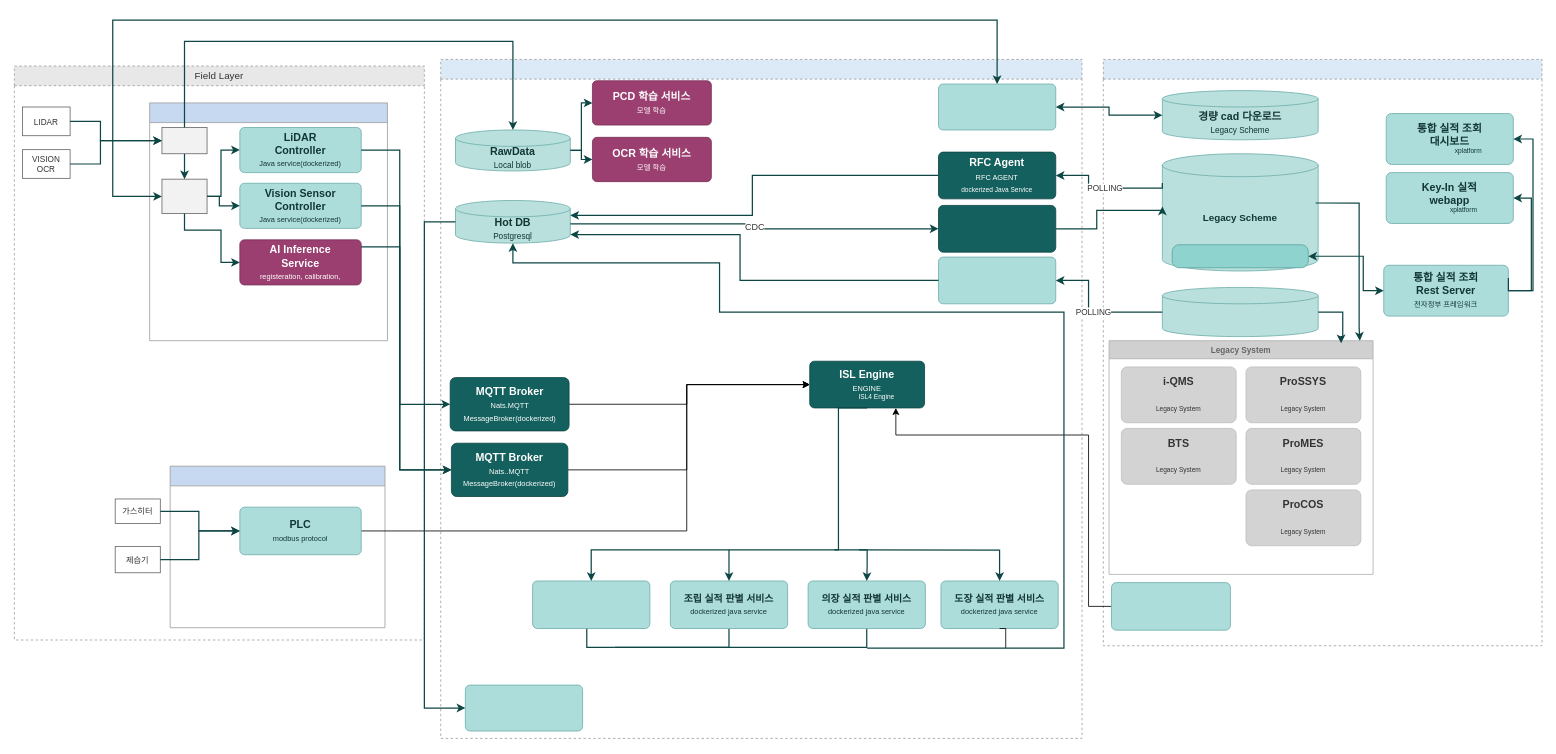
The diagram is 1556 pixels wide and 754 high, and some of its shapes have lost their labels. The shapes that lost their labels are listed below. From the top down, each one's box as (x1, y1, x2, y2) in pixels, then its label:
(938, 83, 1056, 130): 파일 다운로드 서비스 File Access Gateway(dockerized)
(161, 127, 207, 154): EDGE PC
(161, 178, 207, 214): Work Station
(1162, 153, 1318, 271): SAP HANA
(149, 102, 387, 341): 조립 권역 / 의장 권역
(938, 205, 1056, 252): RFC provider Embed debezium RFC Provider dockerized Java Service
(1171, 244, 1308, 268): 통합 실적 Scheme
(938, 256, 1056, 304): DB Agent DB AGENT dockerized Java Service
(1162, 287, 1318, 337): Oracle Legacy Scheme
(1102, 59, 1542, 646): IT Layer
(440, 59, 1082, 738): OT Layer
(169, 465, 385, 628): 선행 도장 권역
(532, 580, 650, 629): 가공 실적 판별 서비스 dockerized java service
(1111, 582, 1230, 630): Thingworx PTC
(465, 684, 583, 731): OT 대시보드 dockerized java service
